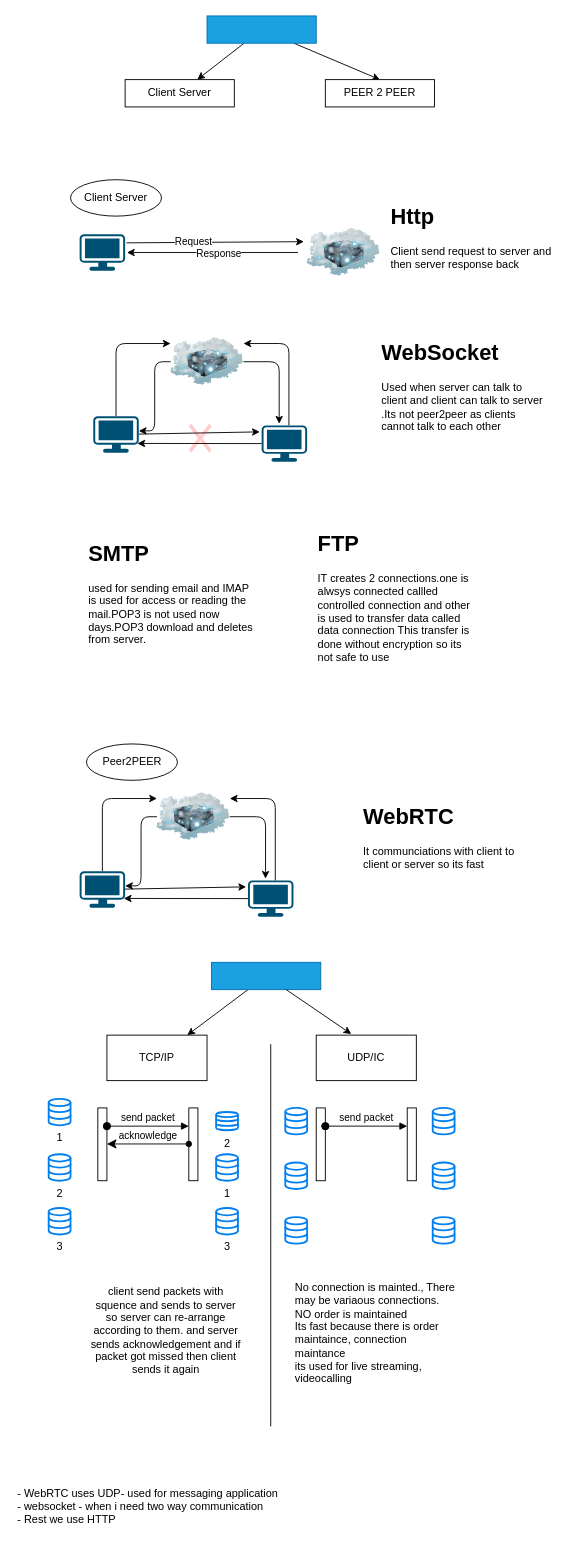
Image size: 568x1555. Some labels were removed from this diagram. Here are the shapes that lost their labels. From the top down, the box of each, then its label:
(206, 15, 316, 43): Application Layer
(211, 961, 321, 990): Transport layer
